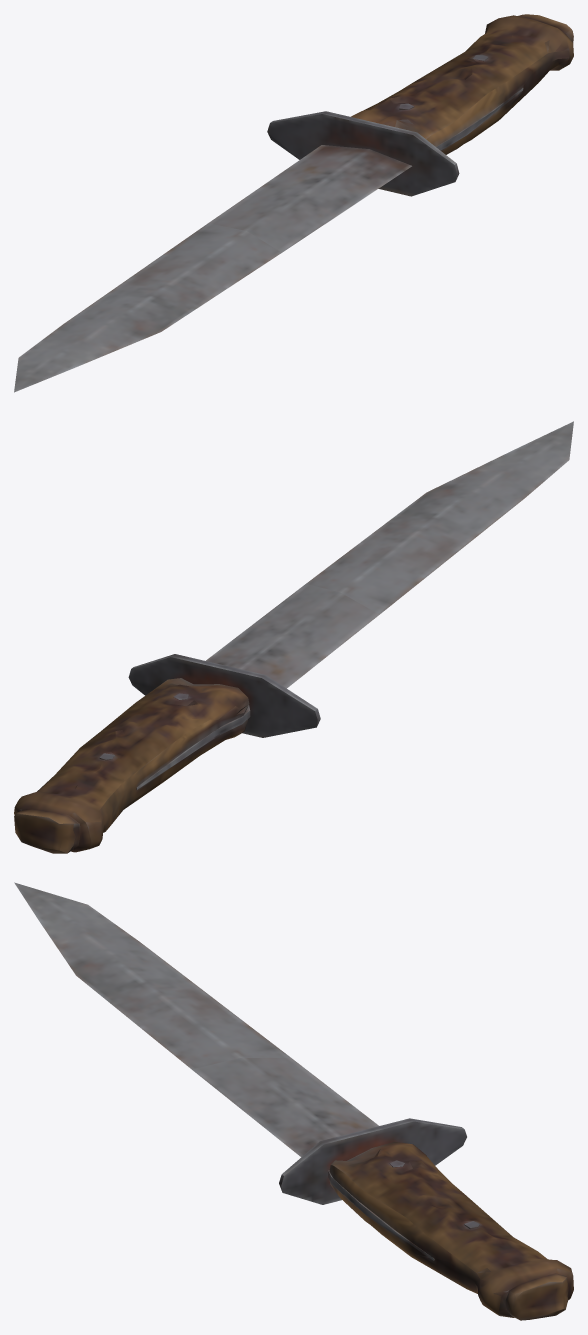
The model's file is paper-knife.lod1.glb.
3 views of the same model, one above another, from view 1: azimuth 30°, elevation 25°; view 2: azimuth 210°, elevation 25°; view 3: azimuth 270°, elevation 25° (orthographic).
Parts seen in each view (by area): view 1: paper-knife; view 2: paper-knife; view 3: paper-knife.
Part boxes in pixels (x1,y1,x2,y2): paper-knife: (14, 14, 573, 392); paper-knife: (14, 421, 573, 853); paper-knife: (14, 882, 573, 1320).
Bounding box in the file's own units: 0.2431 × 0.0179 × 0.1445.
Materials: 1 (1 with a texture image).
